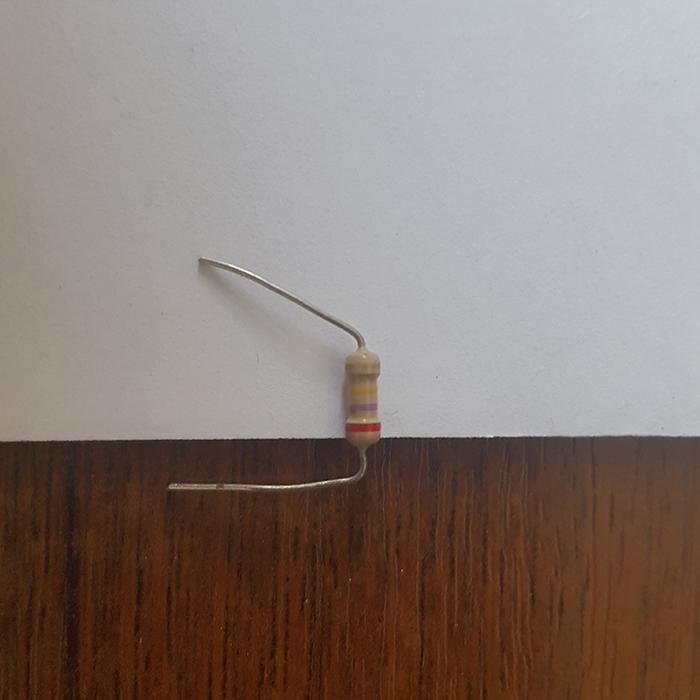resistor: (343, 347, 382, 450)
